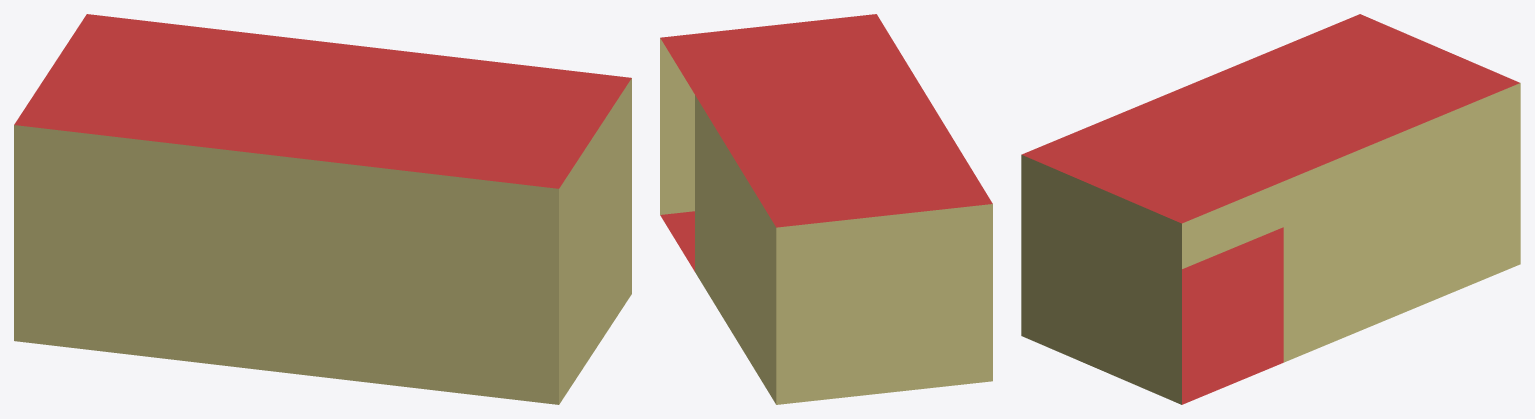
The picture shows the model from 3 angles, left to right: view 1: azimuth 30°, elevation 25°; view 2: azimuth 150°, elevation 25°; view 3: azimuth 270°, elevation 25°; orthographic projection. The views are drawn at different scales.
Bounding box in the file's own units: 24.9 × 25.06 × 10.05.
